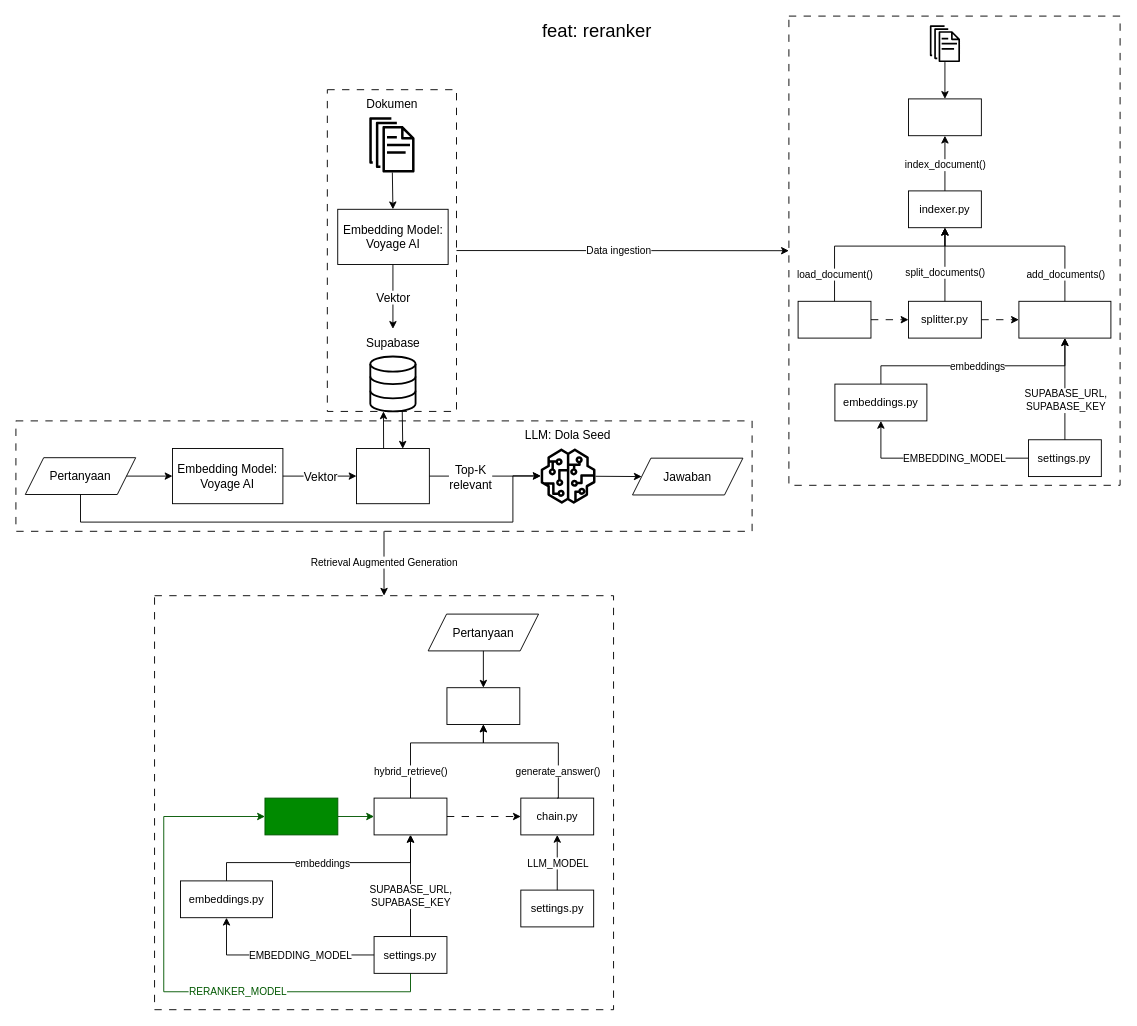
Image size: 1137x1026. Some labels were removed from this diagram. The shapes that lost their labels are listed below. From the top down, each one's box as (x1, y1, x2, y2) in pixels, then its label:
(908, 98, 981, 136): ingest.py
(797, 300, 871, 338): loader.py
(1018, 300, 1111, 338): vectorstore.py
(356, 448, 429, 504): Similarity: pgvector
(446, 687, 520, 724): chat.py
(264, 797, 338, 835): reranker.py
(373, 797, 447, 835): retriever.py
